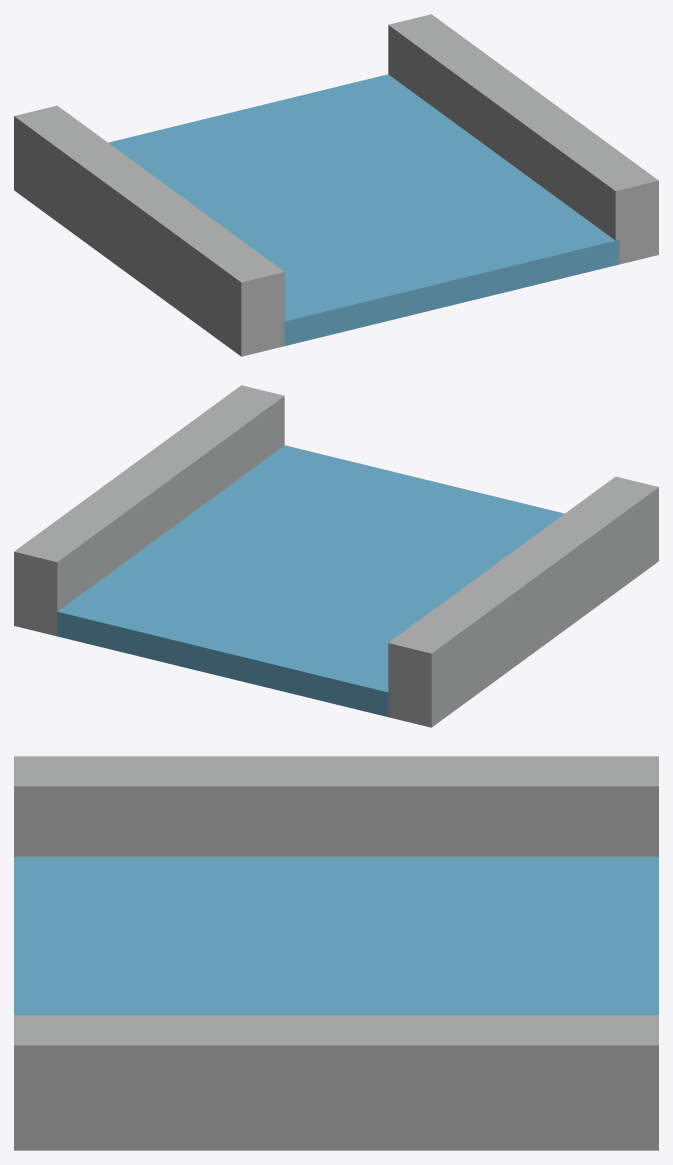
File: irrigation_channel_2m.glb
The picture shows the model from 3 angles, top to bottom: view 1: azimuth 30°, elevation 25°; view 2: azimuth 150°, elevation 25°; view 3: azimuth 270°, elevation 25°; orthographic projection. The views are drawn at different scales.
Parts seen in each view (by area): view 1: water, stone; view 2: water, stone; view 3: stone, water.
Boxes of the visible parts, box(x1,y1,x2,y2) form: water: box(108, 74, 619, 346); stone: box(14, 14, 658, 356); water: box(53, 445, 564, 717); stone: box(14, 385, 658, 727); stone: box(14, 756, 658, 1150); water: box(14, 856, 658, 1015).
Bounding box in the file's own units: 2.12 × 0.36 × 2.
